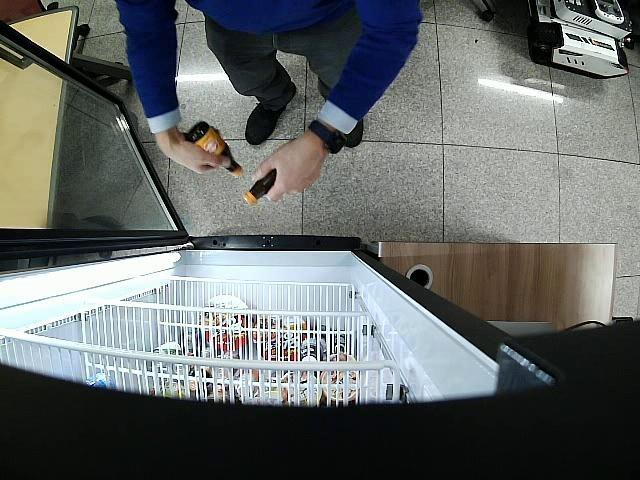17_vita500: (185, 120, 242, 178), (243, 168, 276, 206)
